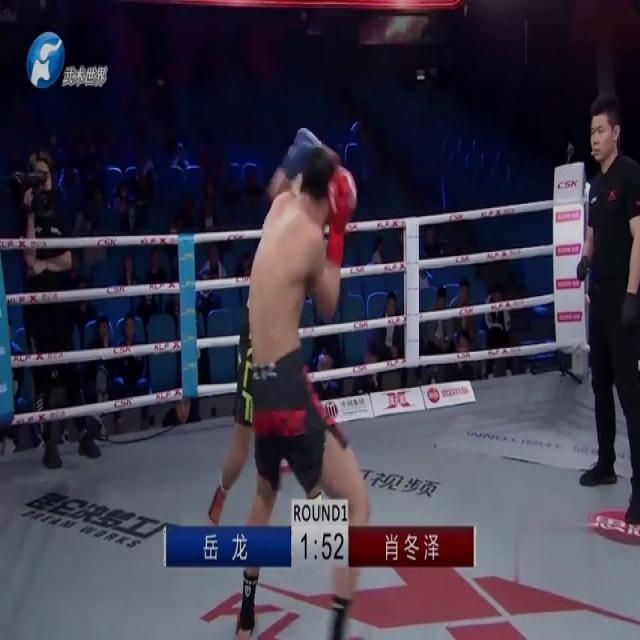fight: (195, 122, 377, 638)
non-fight: (559, 80, 639, 544), (10, 147, 105, 473)
